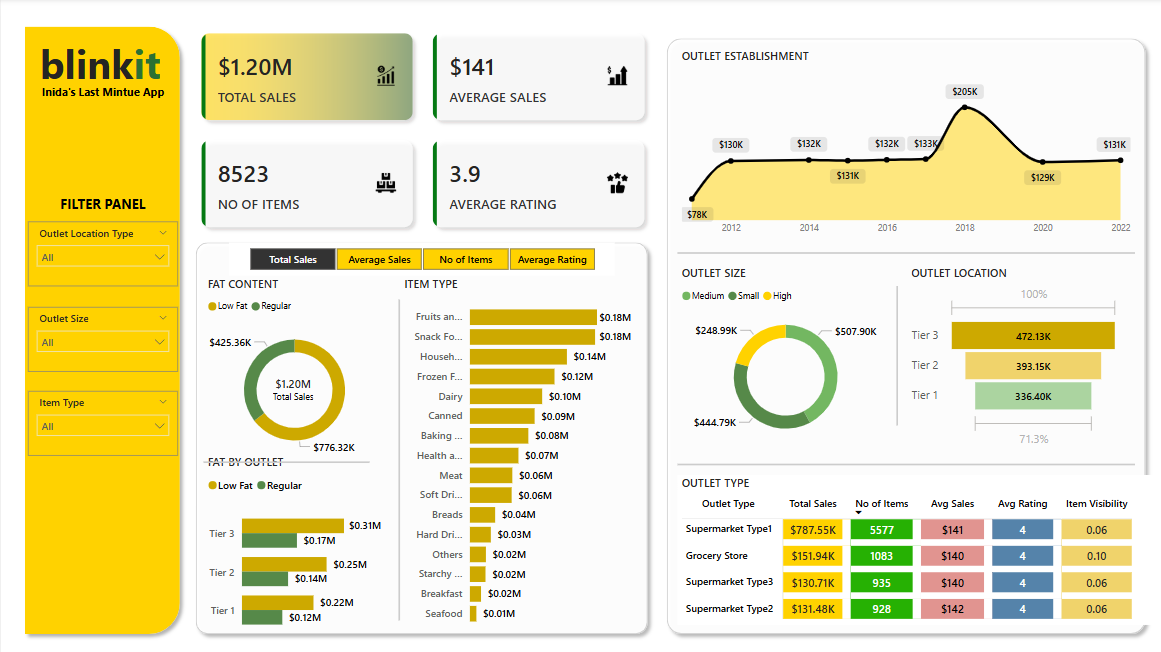

The dashboard page shown, as its layout file describes it:
{"tool":"powerbi","page":{"name":"blinkit Dashboard","canvas":[1400,800],"ordinal":0},"visuals":[{"type":"shape","box":[20.7,24.8,204.6,750.3],"z":0},{"type":"textbox","box":[41.6,39.8,171.7,75.9],"z":1000},{"type":"textbox","box":[32.5,97.6,180.7,38],"z":2000},{"type":"cardVisual","fields":{"Data":["BlinkIT Grocery Data.Total Sales","BlinkIT Grocery Data.Average Sales","BlinkIT Grocery Data.No of Items","BlinkIT Grocery Data.Average Rating"]},"box":[224.1,25.3,569.3,269.3],"z":3000},{"type":"shape","box":[225.9,285.5,562.1,489.8],"z":4000},{"type":"donutChart","title":"FAT CONTENT","fields":{"Y":["BlinkIT Grocery Data.Total Sales"],"Category":["BlinkIT Grocery Data.Item Fat Content"]},"box":[244,334.3,218.7,231.3],"z":5000},{"type":"slicer","fields":{"Values":["Metrics.Metrics"]},"box":[274.7,294.6,464.5,39.8],"z":6000},{"type":"cardVisual","fields":{"Data":["BlinkIT Grocery Data.Total Sales"]},"box":[309,437.4,86.7,54.2],"z":7000},{"type":"clusteredBarChart","title":"FAT BY OUTLET","fields":{"Y":["BlinkIT Grocery Data.Total Sales"],"Category":["BlinkIT Grocery Data.Outlet Location Type"],"Series":["BlinkIT Grocery Data.Item Fat Content"]},"box":[244,549.4,218.7,231.3],"z":8000},{"type":"shape","box":[244,535,200.6,48.8],"z":9000},{"type":"shape","box":[457.2,363.3,45.2,386.8],"z":10000},{"type":"barChart","title":"ITEM TYPE","fields":{"Y":["BlinkIT Grocery Data.Total Sales"],"Category":["BlinkIT Grocery Data.Item Type"]},"box":[480.7,334.3,283.7,431.9],"z":11000},{"type":"shape","box":[793.4,39.8,594.6,735.6],"z":12000},{"type":"lineChart","title":"OUTLET ESTABLISHMENT","fields":{"Category":["BlinkIT Grocery Data.Outlet Establishment Year"],"Y":["BlinkIT Grocery Data.Total Sales"]},"box":[815.1,59.6,551.2,234.9],"z":13000},{"type":"shape","box":[815.1,294.6,551.2,25.3],"z":14000},{"type":"donutChart","title":"OUTLET SIZE","fields":{"Y":["BlinkIT Grocery Data.Total Sales"],"Category":["BlinkIT Grocery Data.Outlet Size"]},"box":[815.1,321.7,260.2,224.1],"z":15000},{"type":"shape","box":[1068.1,347,23.5,168.1],"z":16000},{"type":"funnel","title":"OUTLET LOCATION","fields":{"Y":["Sum(BlinkIT Grocery Data.Sales)"],"Category":["BlinkIT Grocery Data.Outlet Location Type"]},"box":[1091.6,321.7,260.2,224.1],"z":17000},{"type":"shape","box":[815.1,549.4,551.2,25.3],"z":18000},{"type":"pivotTable","title":"OUTLET TYPE","fields":{"Rows":["BlinkIT Grocery Data.Outlet Type"],"Values":["BlinkIT Grocery Data.Total Sales","BlinkIT Grocery Data.No of Items","BlinkIT Grocery Data.Average Sales","BlinkIT Grocery Data.Average Rating","Avg(BlinkIT Grocery Data.Item Visibility)"]},"box":[815.1,574.7,572.9,180.7],"z":19000},{"type":"slicer","fields":{"Values":["BlinkIT Grocery Data.Outlet Location Type"]},"box":[32.5,269.3,180.7,77.7],"z":20000},{"type":"slicer","fields":{"Values":["BlinkIT Grocery Data.Outlet Size"]},"box":[32.5,372.3,180.7,77.7],"z":21000},{"type":"slicer","fields":{"Values":["BlinkIT Grocery Data.Item Type"]},"box":[32.5,473.5,180.7,77.7],"z":22000},{"type":"textbox","box":[32.5,231.3,180.7,38],"z":22001}]}

Visuals, with their boxes in screenshot pixels (x1, y1, x2, y2), scaled from the page's 1400x800 canvas onto the 1161x652 screenshot:
shape: 17, 20, 187, 632
textbox: 34, 32, 177, 94
textbox: 27, 80, 177, 111
cardVisual - BlinkIT Grocery Data.Total Sales x BlinkIT Grocery Data.Average Sales: 186, 21, 658, 240
shape: 187, 233, 653, 632
"FAT CONTENT" donutChart: 202, 272, 384, 461
slicer - Metrics.Metrics: 228, 240, 613, 273
cardVisual - BlinkIT Grocery Data.Total Sales: 256, 356, 328, 401
"FAT BY OUTLET" clusteredBarChart: 202, 448, 384, 636
shape: 202, 436, 369, 476
shape: 379, 296, 417, 611
"ITEM TYPE" barChart: 399, 272, 634, 624
shape: 658, 32, 1151, 632
"OUTLET ESTABLISHMENT" lineChart: 676, 49, 1133, 240
shape: 676, 240, 1133, 261
"OUTLET SIZE" donutChart: 676, 262, 892, 445
shape: 886, 283, 905, 420
"OUTLET LOCATION" funnel: 905, 262, 1121, 445
shape: 676, 448, 1133, 468
"OUTLET TYPE" pivotTable: 676, 468, 1151, 616
slicer - BlinkIT Grocery Data.Outlet Location Type: 27, 219, 177, 283
slicer - BlinkIT Grocery Data.Outlet Size: 27, 303, 177, 367
slicer - BlinkIT Grocery Data.Item Type: 27, 386, 177, 449
textbox: 27, 189, 177, 219
